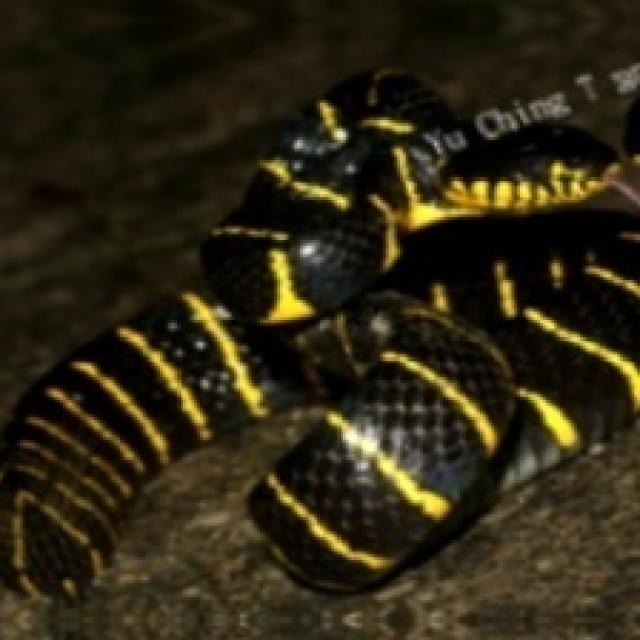mangrove cat snake: (0, 71, 637, 597)
